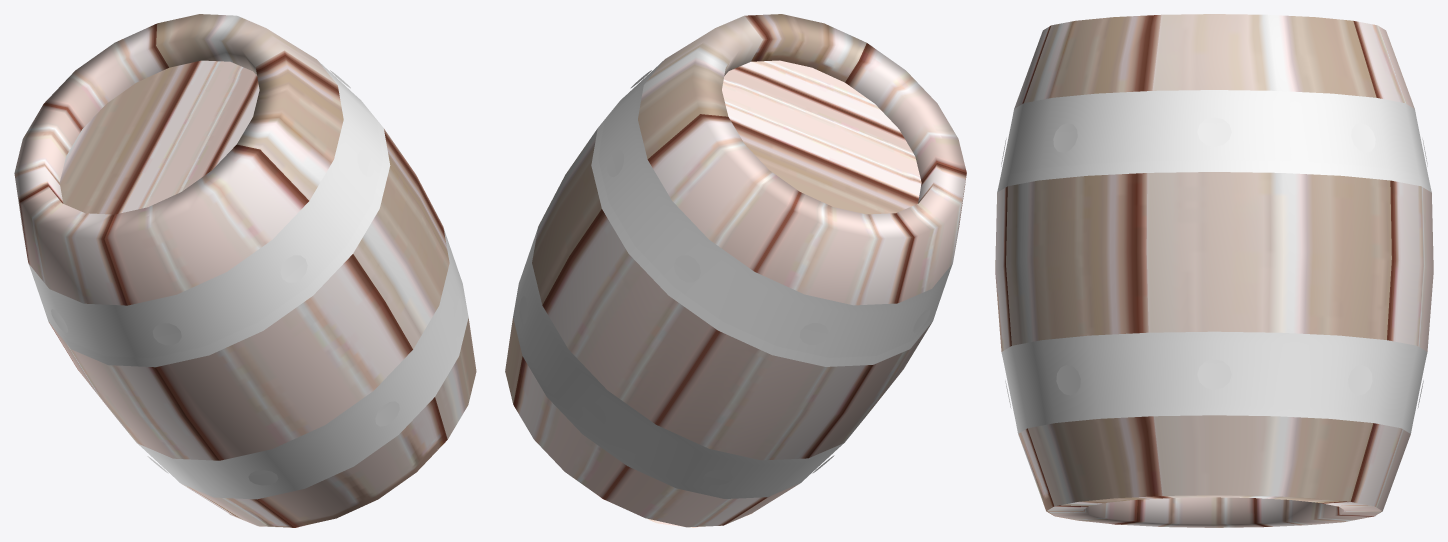
Rendered from IslandTreasureBarrel2.fbx.
3 renders of one model, left to right at view 1: azimuth 30°, elevation 25°; view 2: azimuth 150°, elevation 25°; view 3: azimuth 270°, elevation 25°, orthographic. The views are drawn at different scales.
Parts seen in each view (by area): view 1: Barrel; view 2: Barrel; view 3: Barrel.
Part boxes in pixels (x1=…): Barrel: x1=14, y1=14, x2=476, y2=527; Barrel: x1=505, y1=14, x2=966, y2=527; Barrel: x1=995, y1=14, x2=1433, y2=527.
Size of what is drawn, in the model's own units: 0.9348 by 1.02 by 0.762.
Materials: 1 (1 with a texture image).
